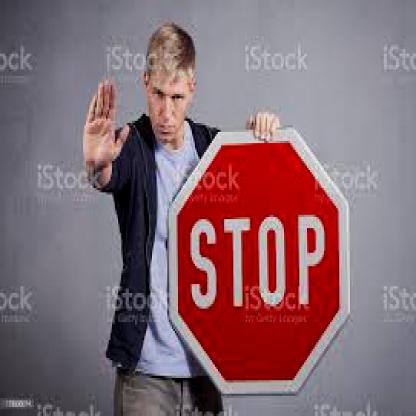Stop: (71, 83, 127, 166)
